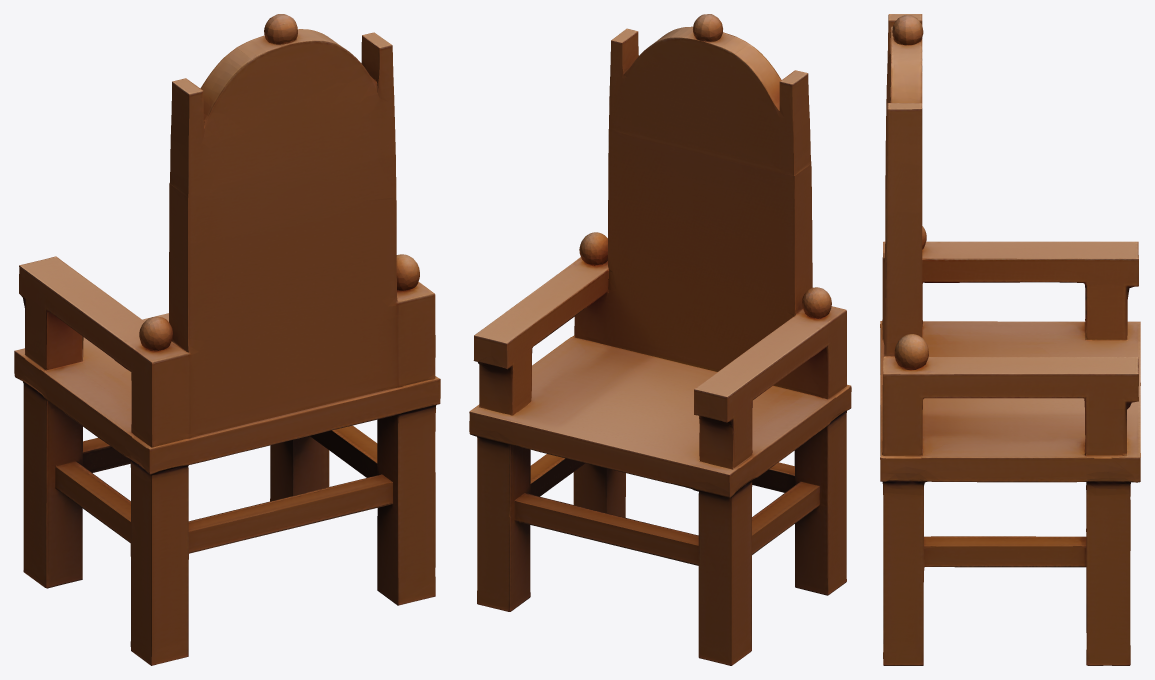
Rendered from sofa_6.glb.
3 renders of one model, left to right at view 1: azimuth 30°, elevation 25°; view 2: azimuth 150°, elevation 25°; view 3: azimuth 270°, elevation 25°, orthographic. The views are drawn at different scales.
Parts seen in each view (by area): view 1: world; view 2: world; view 3: world.
Part boxes in pixels (<box>): world: <box>14,14,440,665</box>; world: <box>469,14,851,665</box>; world: <box>880,14,1140,665</box>.
Size of the model in its own units: 0.5021 by 1 by 0.4056.
Materials: 1 (1 with a texture image).
